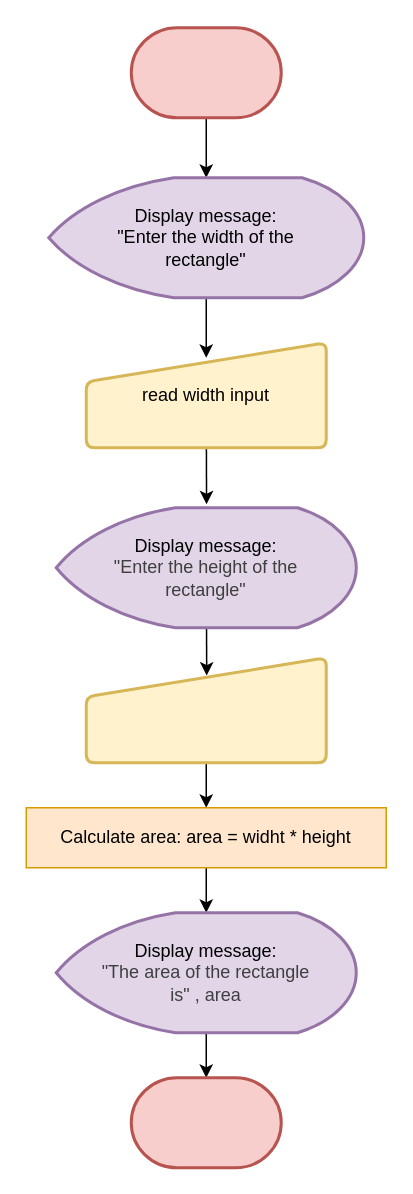
Some shapes in this 413 by 1194 pixel diagram are drawn without their labels. The shapes that lost their labels are listed below. From the top down, each one's centre as x and y in pixels, then its label:
At [205,72]: "start".
At [205,710]: "read height input".
At [205,1122]: "end".
